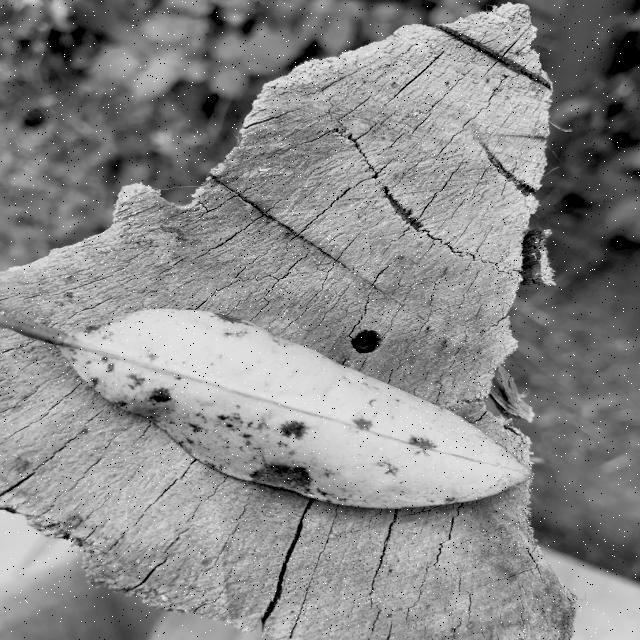melanose: (31, 293, 523, 533)
